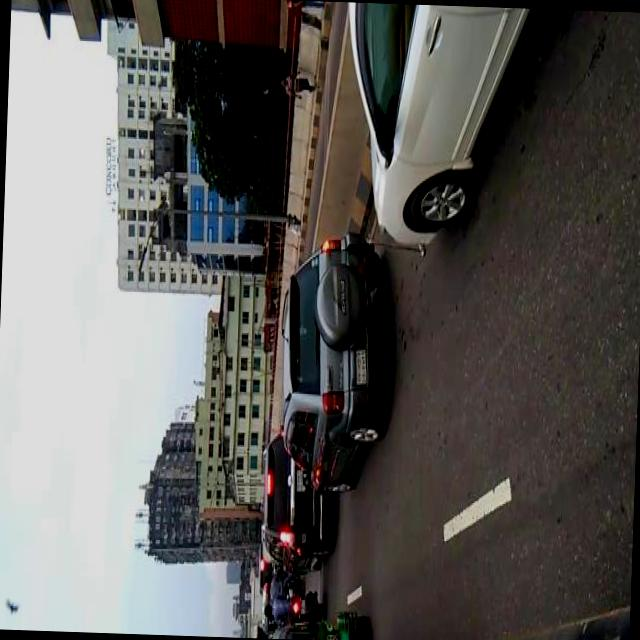car: (336, 2, 531, 258), (273, 230, 395, 506), (258, 424, 339, 578)
motorcycle: (262, 589, 328, 630)
